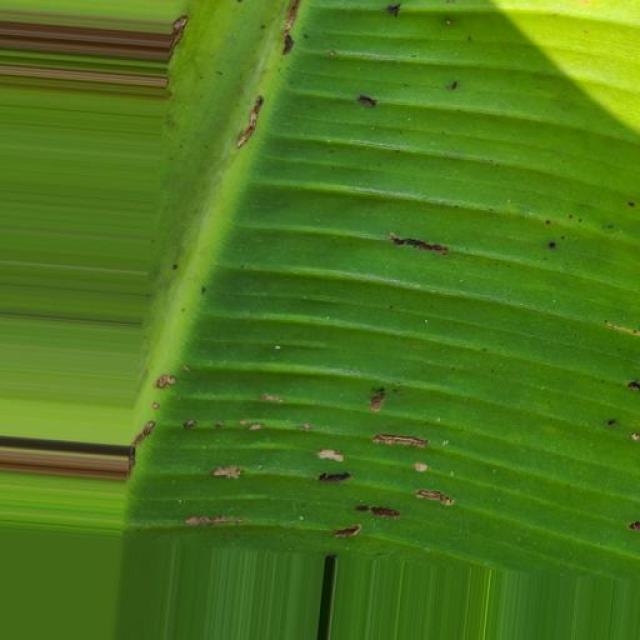Black_rot: (7, 2, 640, 639)
